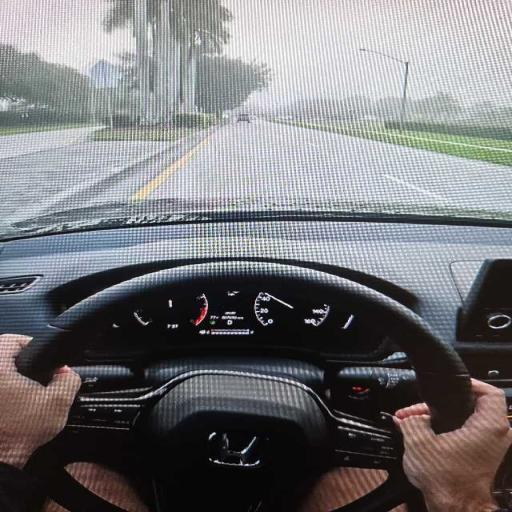car: (0, 0, 511, 511), (237, 113, 250, 122)
lane: (148, 121, 511, 211), (0, 141, 168, 221), (0, 127, 98, 159)
person: (0, 335, 80, 511)
